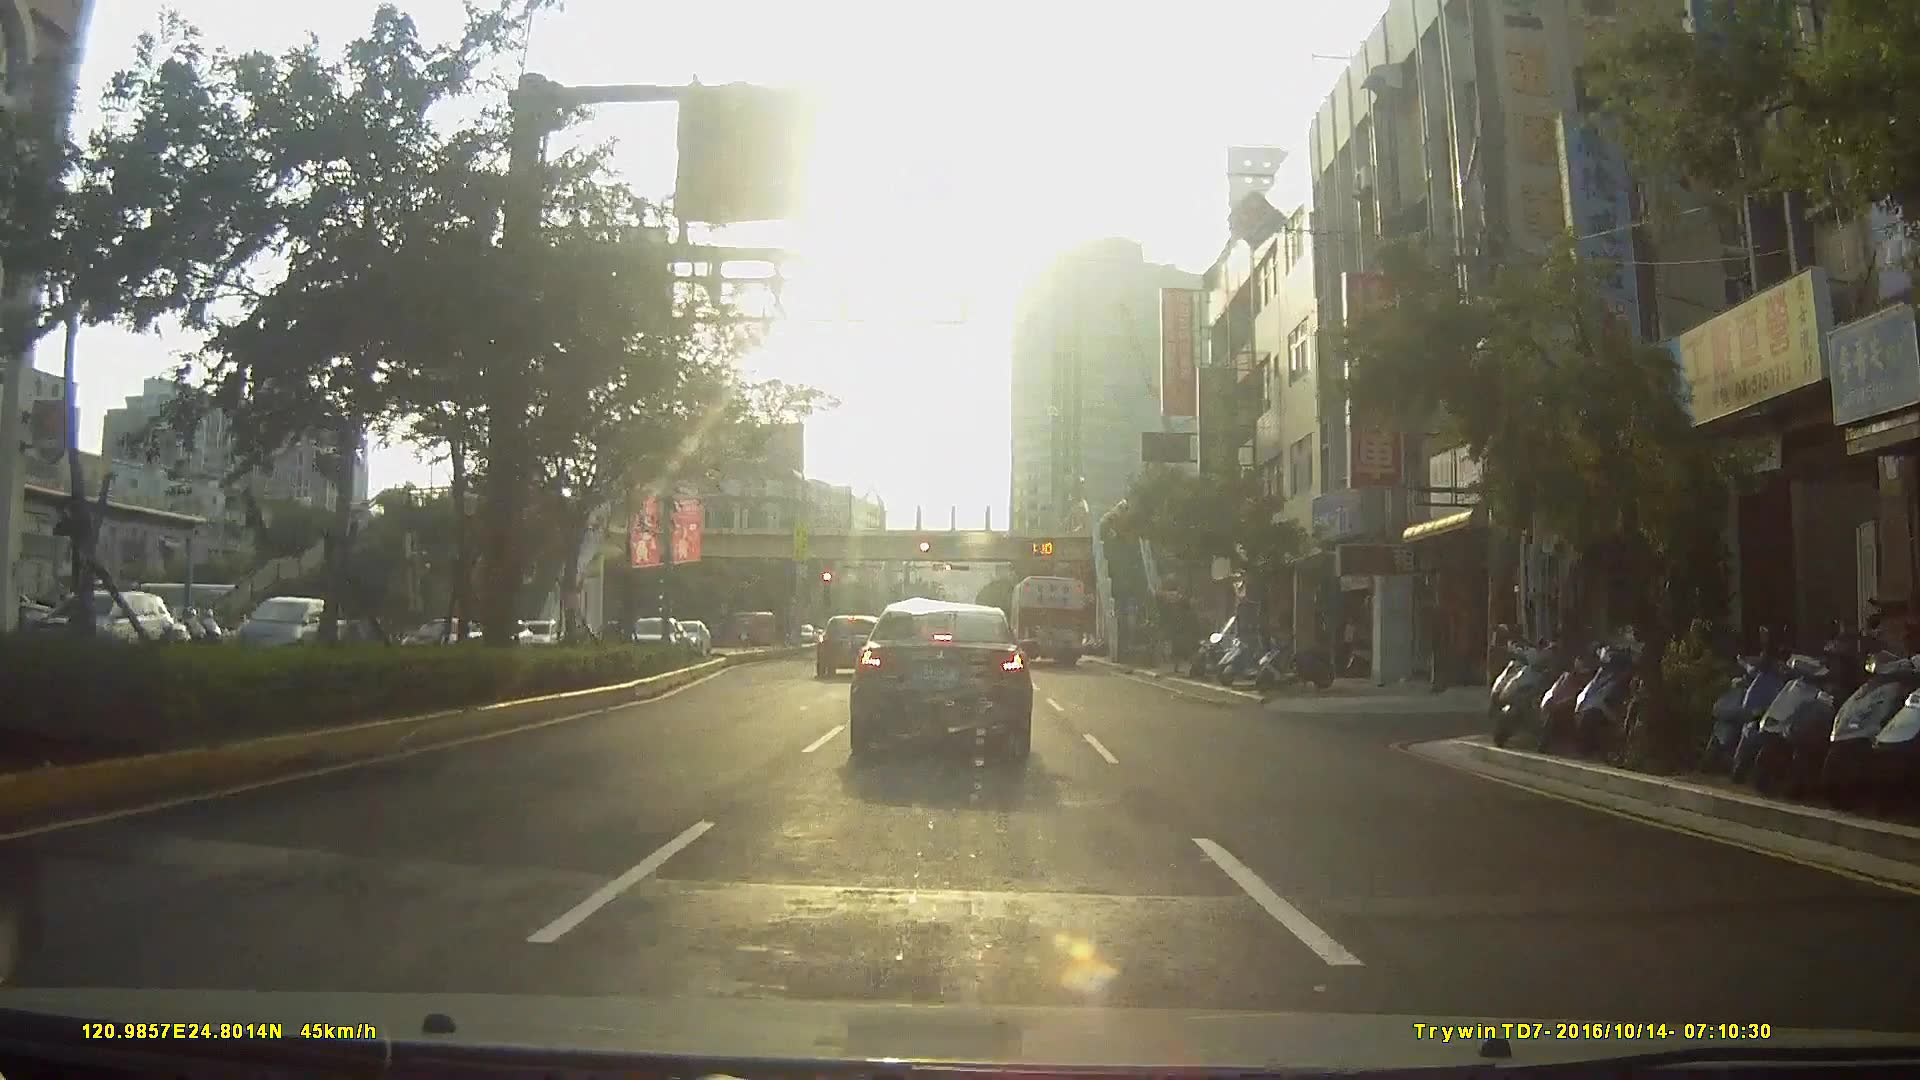vehicle: (847, 599, 1034, 762), (156, 531, 255, 674), (1006, 571, 1087, 669), (227, 595, 345, 661), (815, 611, 884, 679)
